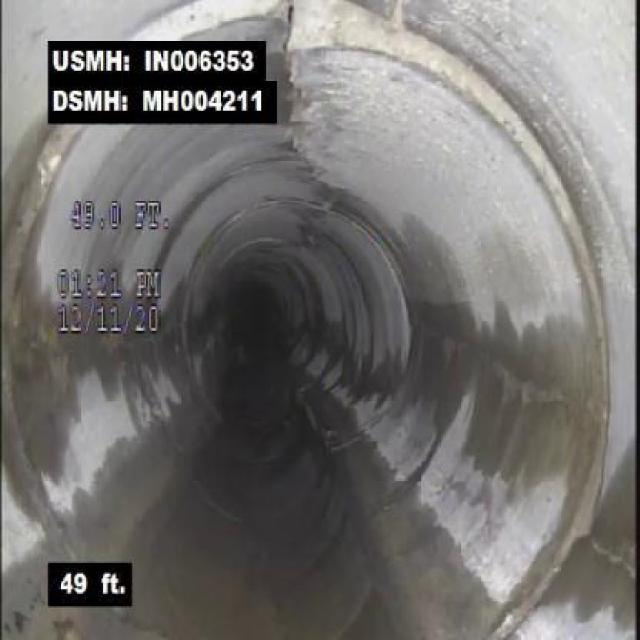Buckling: (270, 6, 324, 177)
Crack: (590, 532, 636, 585)
